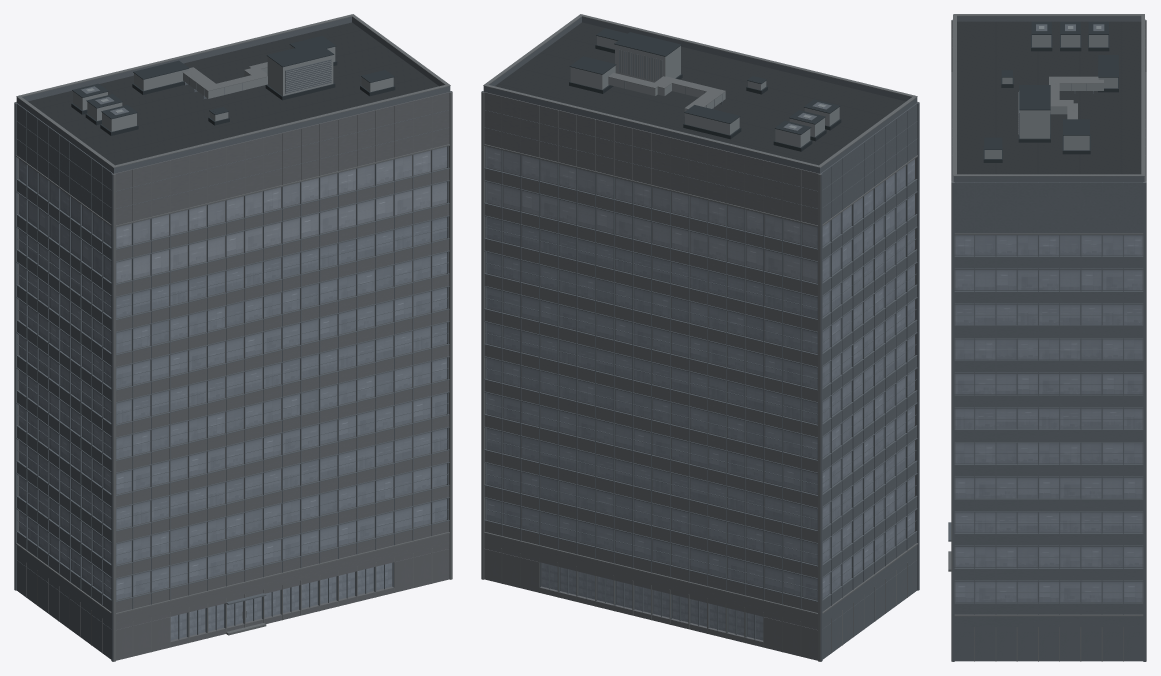
The model's file is ohneeohnee.glb.
The picture shows the model from 3 angles, left to right: view 1: azimuth 30°, elevation 25°; view 2: azimuth 150°, elevation 25°; view 3: azimuth 270°, elevation 25°; orthographic projection.
Visible parts, largest first — view 1: panel, glass, mullion, side, sideGlass, roof, upperGlass, frame, equipment, dark; view 2: panel, glass, mullion, side, sideGlass, roof, upperGlass, frame, equipment, dark; view 3: side, sideGlass, roof, mullion, frame, dark, equipment, panel.
Part boxes in pixels (bbox=[...]): panel: bbox=[18, 92, 449, 660]; glass: bbox=[116, 217, 448, 640]; mullion: bbox=[16, 59, 449, 639]; side: bbox=[14, 17, 452, 661]; sideGlass: bbox=[19, 159, 111, 598]; roof: bbox=[28, 22, 438, 165]; upperGlass: bbox=[116, 146, 448, 283]; frame: bbox=[14, 14, 452, 661]; equipment: bbox=[73, 45, 393, 618]; dark: bbox=[71, 36, 395, 135]; panel: bbox=[484, 92, 915, 660]; glass: bbox=[485, 217, 817, 640]; mullion: bbox=[484, 49, 917, 639]; side: bbox=[481, 17, 919, 661]; sideGlass: bbox=[822, 159, 914, 598]; roof: bbox=[495, 22, 905, 165]; upperGlass: bbox=[485, 146, 817, 283]; frame: bbox=[481, 14, 919, 661]; equipment: bbox=[570, 36, 839, 147]; dark: bbox=[569, 28, 841, 151]; side: bbox=[952, 16, 1145, 661]; sideGlass: bbox=[954, 235, 1143, 601]; roof: bbox=[957, 21, 1141, 174]; mullion: bbox=[948, 24, 1143, 614]; frame: bbox=[948, 14, 1146, 661]; dark: bbox=[983, 21, 1118, 162]; equipment: bbox=[984, 26, 1117, 158]; panel: bbox=[952, 21, 1145, 602].
Size of the model in its own units: 36.39 by 53.2 by 18.68.
10 materials, 7 textured.
